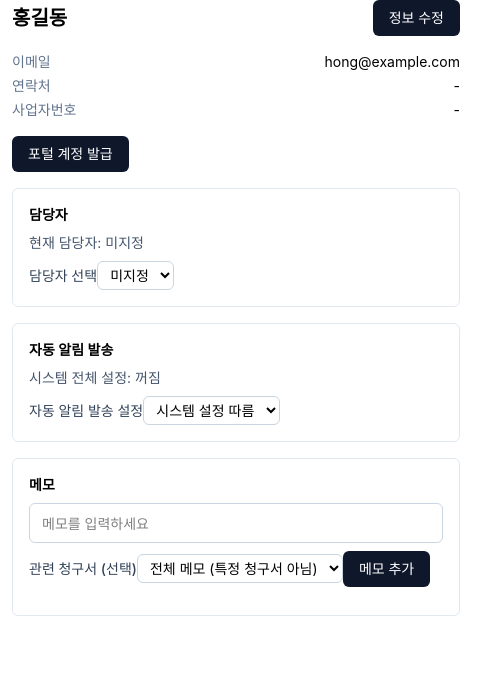
Test: CustomerDetailPage › adds a customer-wide collection note and shows it in the timeline
The image size is (477, 678).
Expected: the heading "메모" is shown, [29,476,55,493]
Type "연락함" into the field with placeholder "메모를 입력하세요". click: [236, 523]
box: [29,503,443,543]
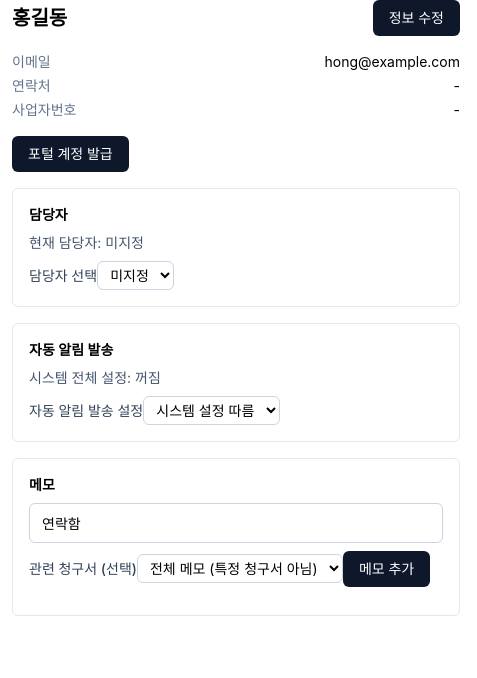
Click the button "메모 추가". click: [387, 569]
box: [343,551,430,587]
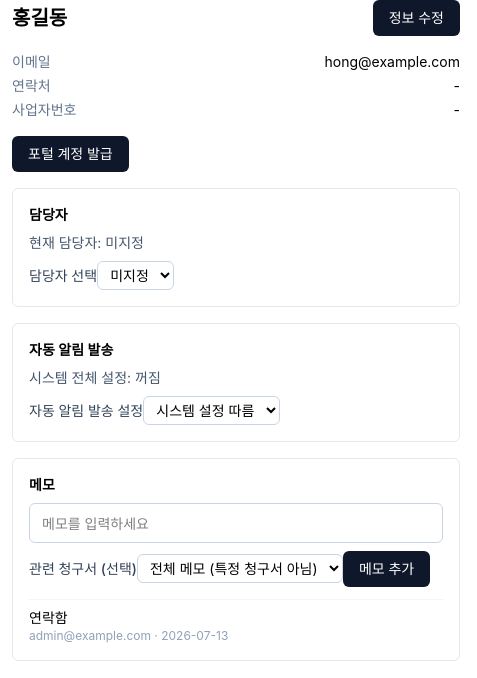
Expected: the text "연락함" is shown, [29,609,68,626]
